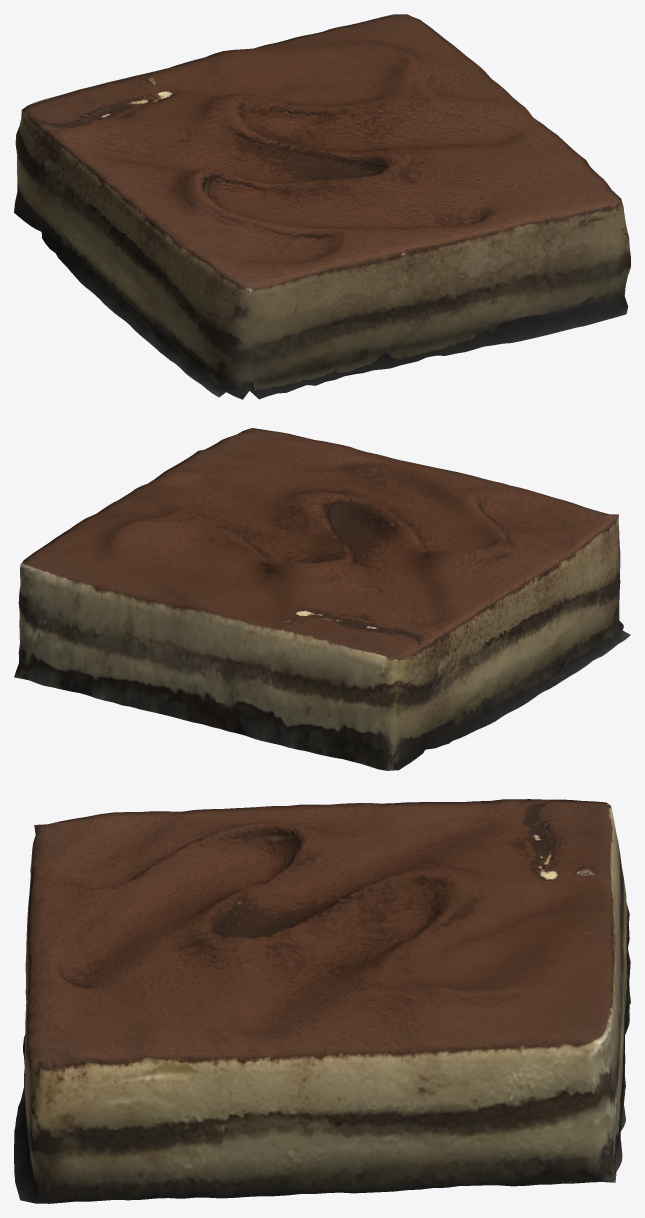
Rendered from tiramisu.glb.
3 renders of one model, top to bottom at view 1: azimuth 30°, elevation 25°; view 2: azimuth 150°, elevation 25°; view 3: azimuth 270°, elevation 25°, orthographic. The views are drawn at different scales.
Parts seen in each view (by area): view 1: Model; view 2: Model; view 3: Model.
Part boxes in pixels (x1,y1,x2,y2): Model: [14, 14, 630, 399]; Model: [14, 428, 630, 770]; Model: [14, 799, 630, 1203].
Bounding box in the file's own units: 0.1685 × 0.0567 × 0.1702.
Materials: 1 (1 with a texture image).
